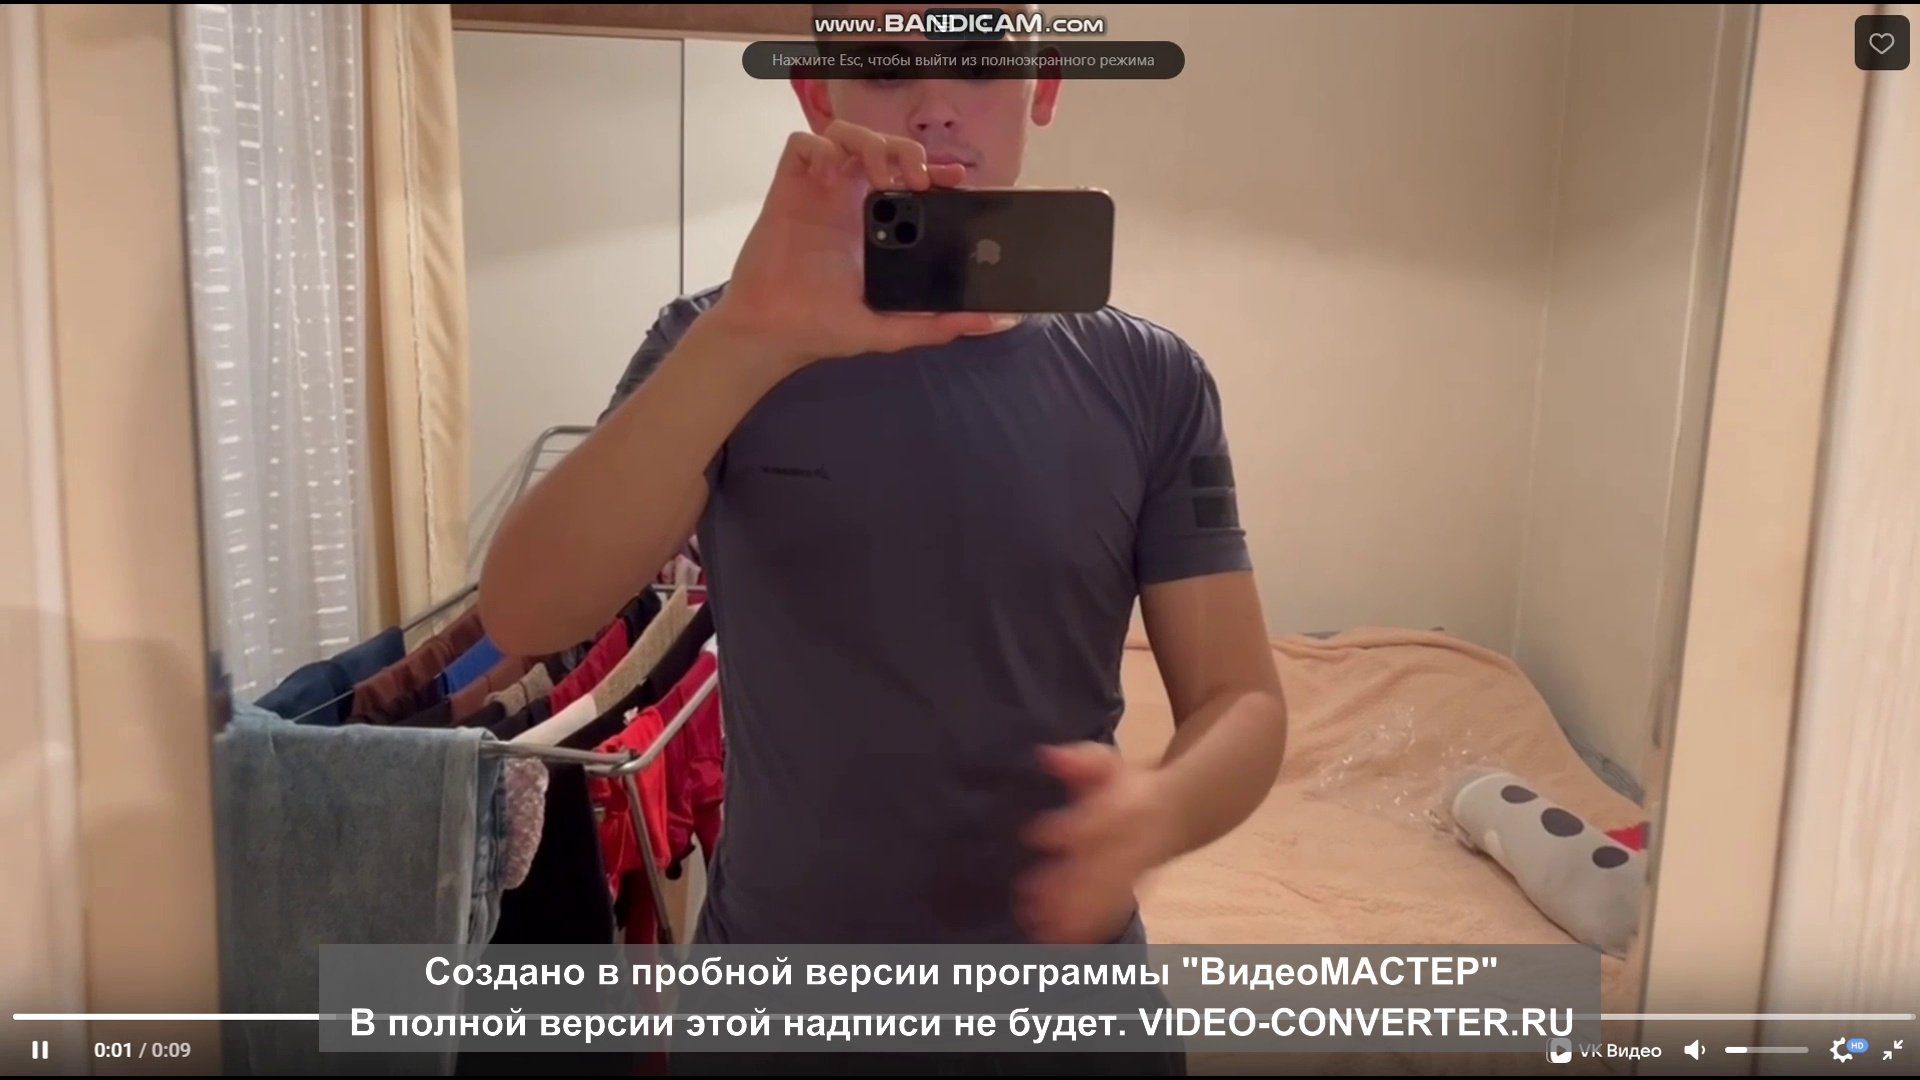Кисть: (1010, 733, 1150, 936)
